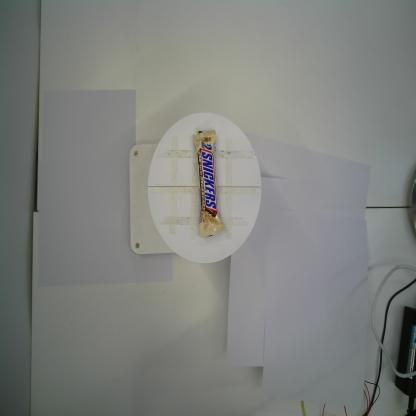Chocolate: (193, 130, 226, 238)
